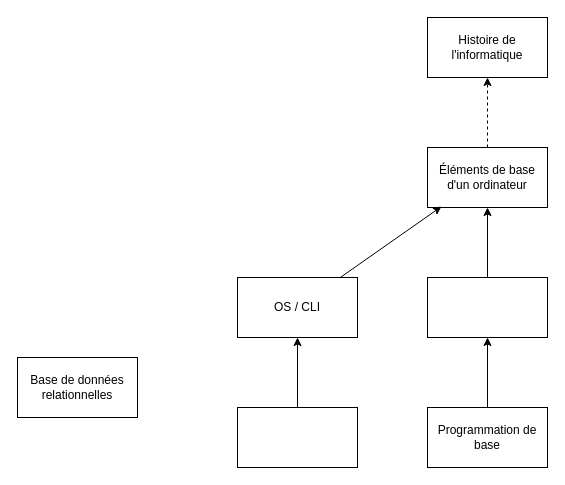
Image size: 565x485. Some labels were removed from this diagram. The shapes that lost their labels are listed below. From the top down, each one's centre as x and y in pixels, then its label:
[487,307]: Représentation binaire de l'information et mémoire
[297,437]: VM
